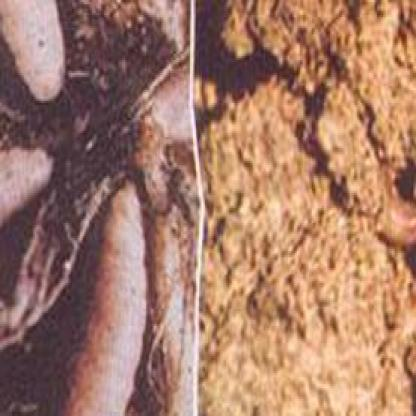whorl-maggot: (64, 182, 152, 416)
